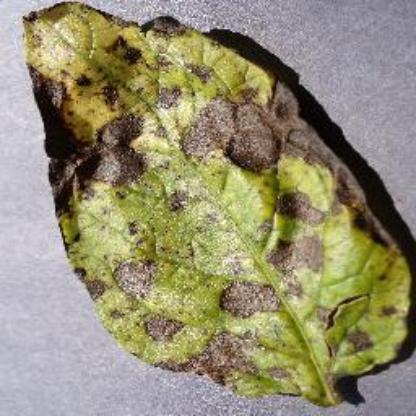Early-Blight: (17, 1, 416, 404)
